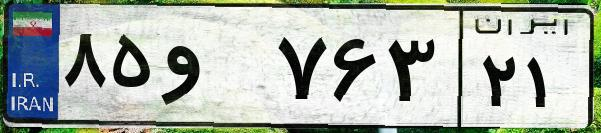1: (525, 38, 570, 115)
2: (475, 38, 525, 113)
3: (385, 28, 445, 110)
5: (110, 28, 158, 98)
6: (330, 28, 385, 110)
7: (270, 28, 330, 110)
8: (57, 26, 110, 100)
و: (158, 20, 270, 120)
